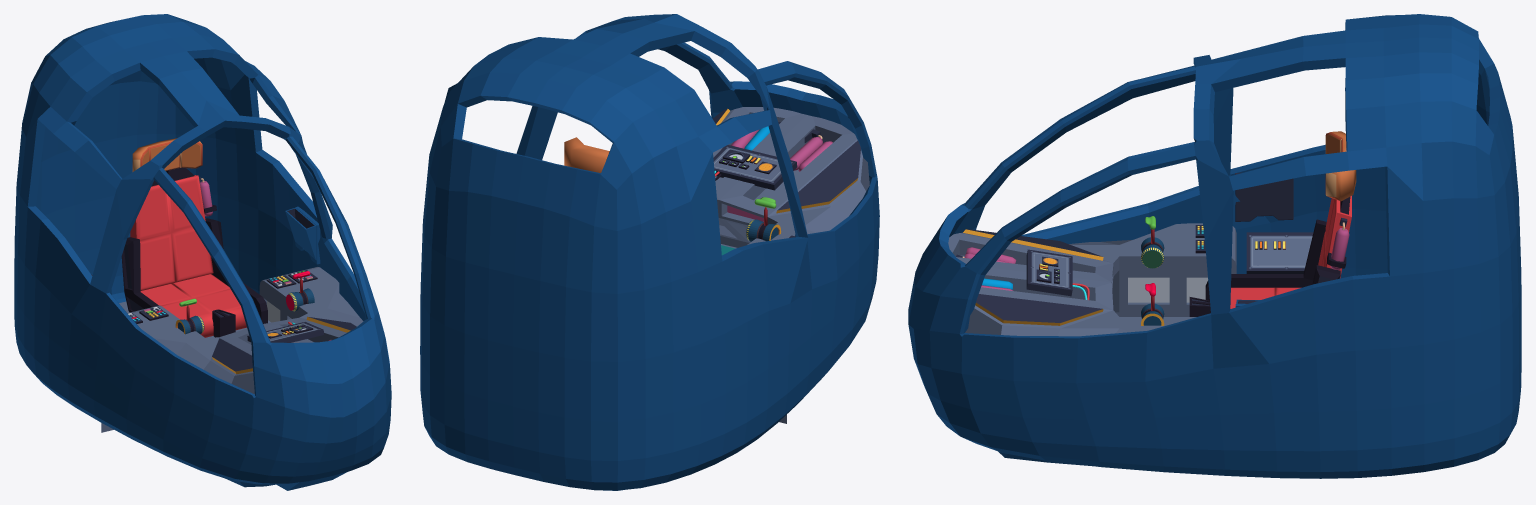
File: Cockpit.fbx
3 renders of one model, left to right at view 1: azimuth 30°, elevation 25°; view 2: azimuth 150°, elevation 25°; view 3: azimuth 270°, elevation 25°, orthographic. The views are drawn at different scales.
Parts seen in each view (by area): view 1: Cube, Cube.001, Cube.004, Cube.010, Cube.012, Cube.013, ConolYoke.007; view 2: Cube, Cube.004, Cube.013, Cube.010, ConolYoke.003; view 3: Cube, Cube.004, Cube.001, Cube.037, Cube.011, Cube.013, Cube.010.
Part boxes in pixels (left/top/right/bottom): Cube: left=14, top=14, right=391, bottom=490; Cube.001: left=121, top=168, right=267, bottom=337; Cube.004: left=101, top=267, right=363, bottom=432; Cube.010: left=132, top=138, right=202, bottom=171; Cube.012: left=285, top=206, right=320, bottom=264; Cube.013: left=247, top=322, right=323, bottom=342; ConolYoke.007: left=286, top=288, right=314, bottom=311; Cube: left=420, top=14, right=879, bottom=490; Cube.004: left=713, top=107, right=869, bottom=423; Cube.013: left=713, top=145, right=797, bottom=190; Cube.010: left=564, top=137, right=609, bottom=172; ConolYoke.003: left=746, top=219, right=781, bottom=241; Cube: left=908, top=14, right=1521, bottom=478; Cube.004: left=948, top=223, right=1236, bottom=336; Cube.001: left=1189, top=196, right=1351, bottom=316; Cube.037: left=1246, top=232, right=1313, bottom=273; Cube.011: left=1235, top=172, right=1293, bottom=221; Cube.013: left=1026, top=249, right=1072, bottom=296; Cube.010: left=1325, top=131, right=1356, bottom=201.
Bounding box in the file's own units: 300 × 377 × 524.
Materials: 9 (2 with a texture image).
